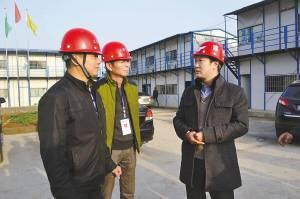hard-hat: (58, 28, 103, 55), (191, 41, 225, 63), (102, 40, 132, 62)
person: (37, 28, 121, 199), (172, 40, 248, 199), (94, 40, 142, 199)
